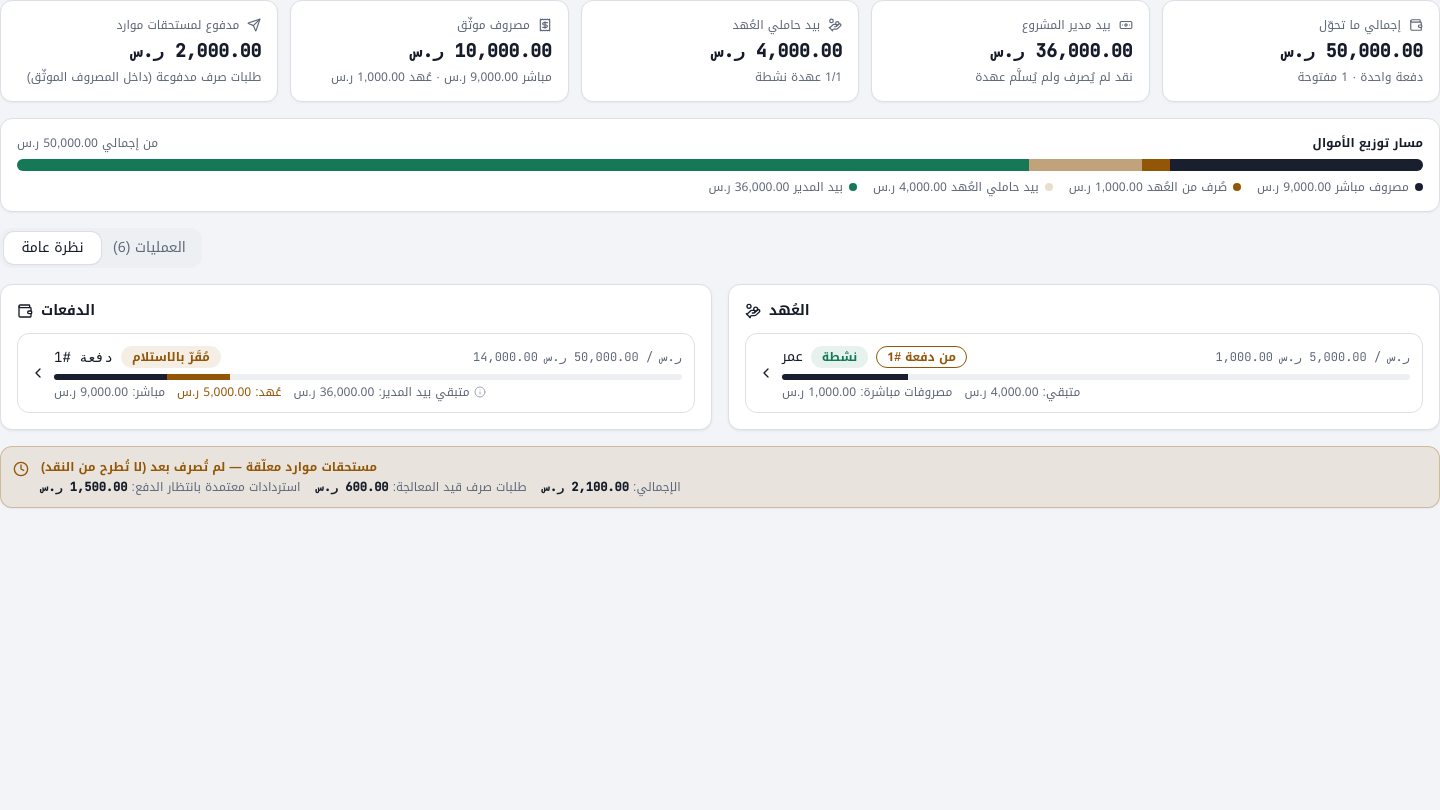
Test: the funds column › lists the custody drawn from the fund with its spend, rejected rows excluded
The image size is (1440, 810).
Click the button "دفعة #1" at (356, 373), box 18,334 -> 694,412
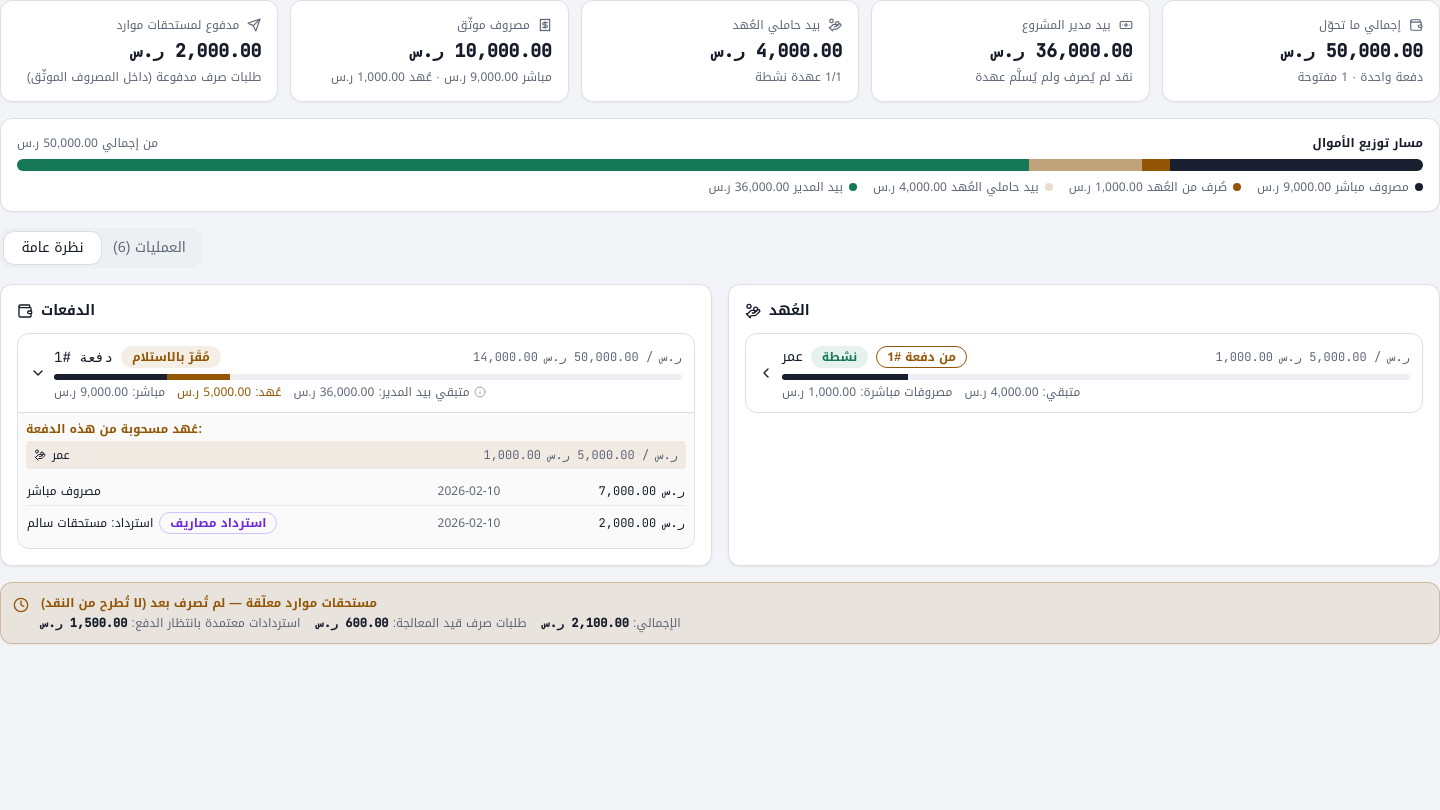
Check: the text "عمر" is shown, box 34,447 -> 70,463
